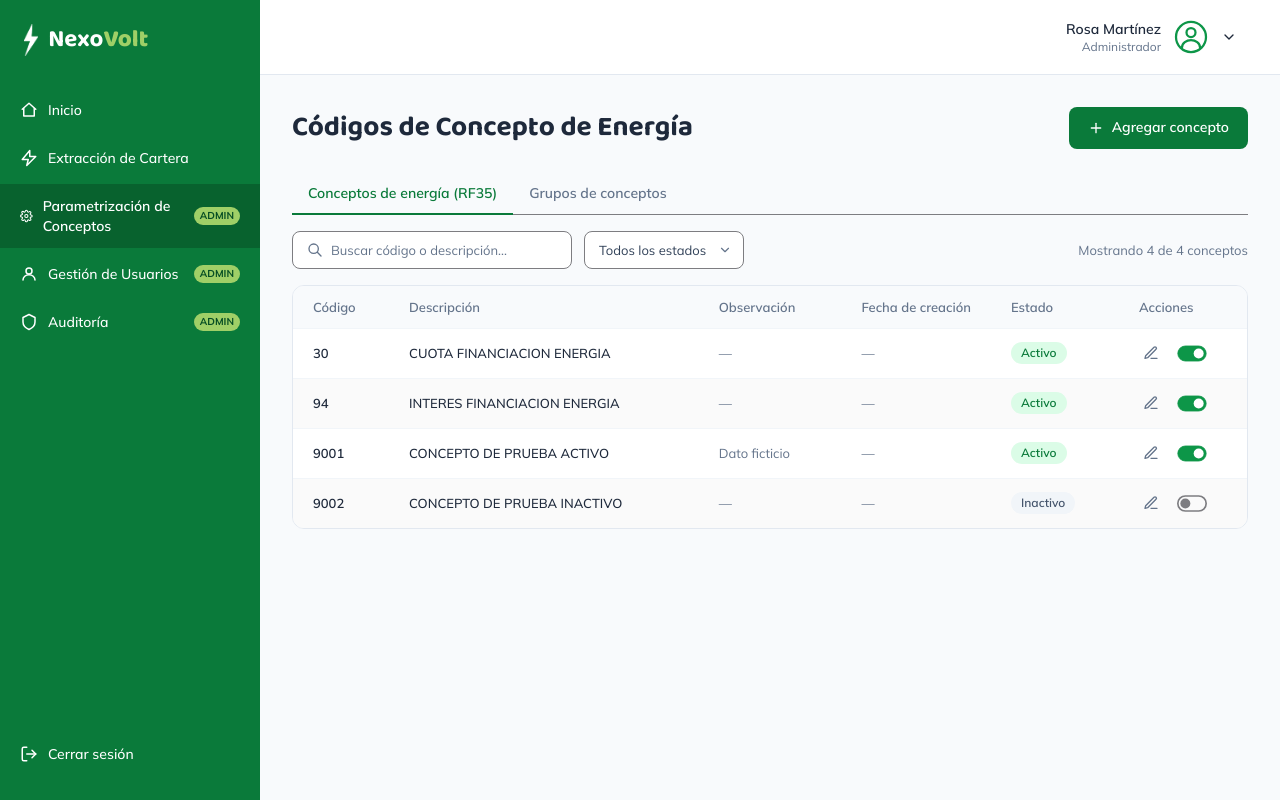
Scenario: pantalla de parametrización (RF35) › crear concepto valida campos obligatorios en el cliente
Expected: the text "CUOTA FINANCIACION ENERGIA" is shown, [389, 328, 699, 378]
Click the button "Agregar concepto". click: [1158, 128]
box: [1069, 107, 1248, 148]
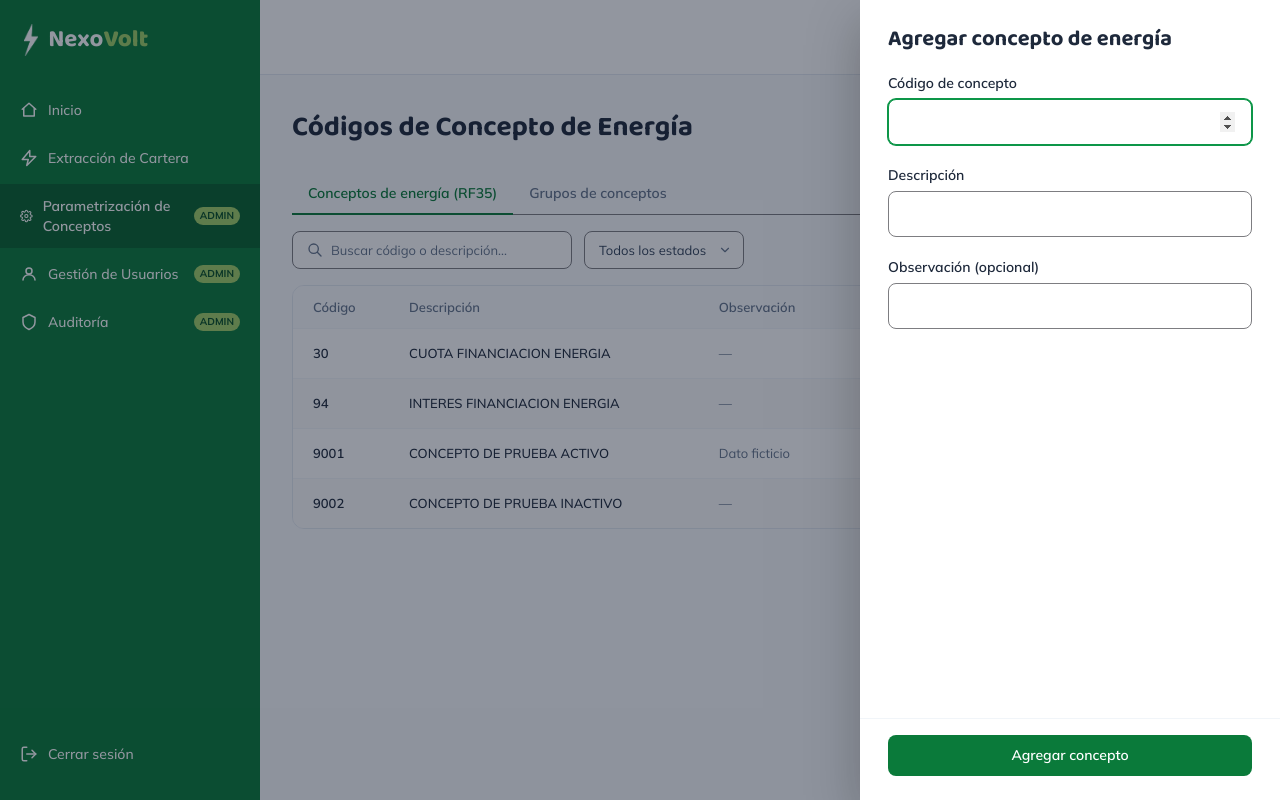
Note: Intentar enviar vacío
Click the button "Agregar concepto". click: [1070, 755]
box: [888, 734, 1252, 776]
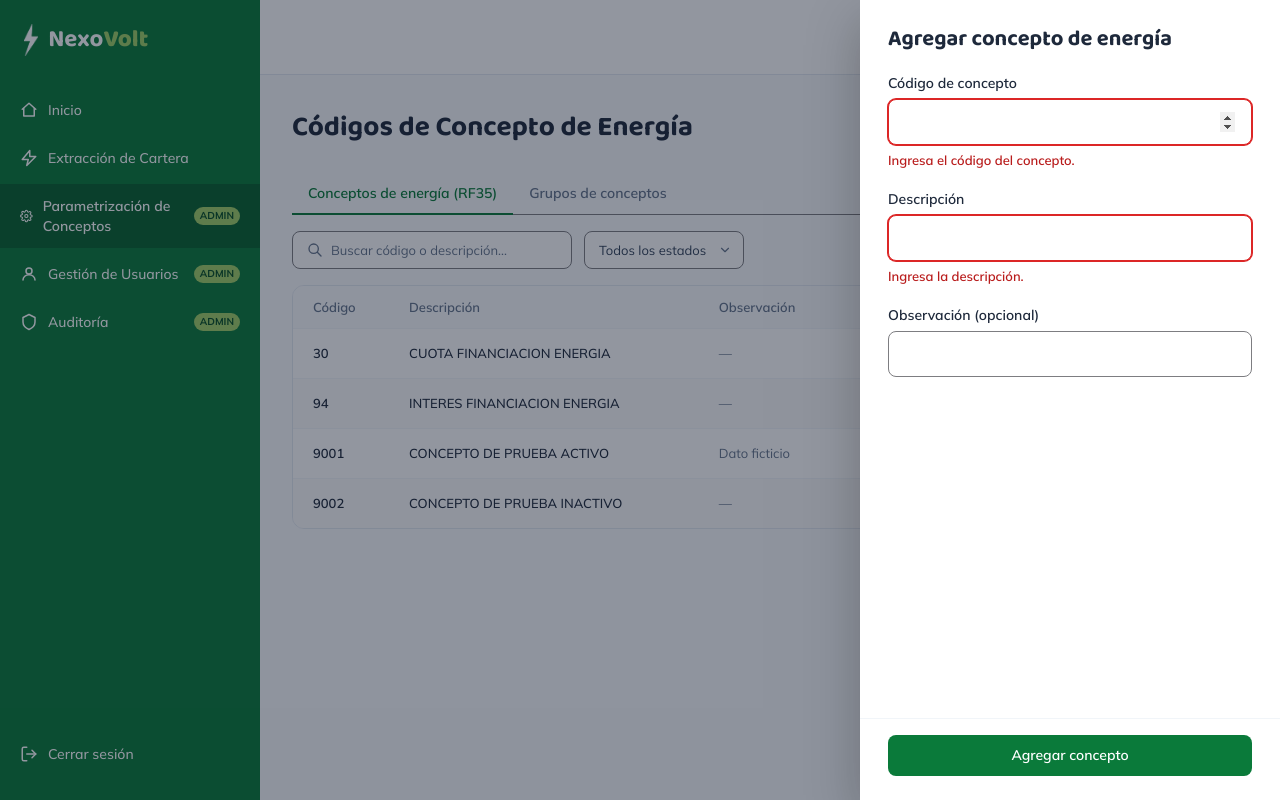
Result: the text "Ingresa el código del concepto." is shown at [888, 152, 1074, 168]
Result: the text "Ingresa la descripción." is shown at [888, 268, 1024, 284]
